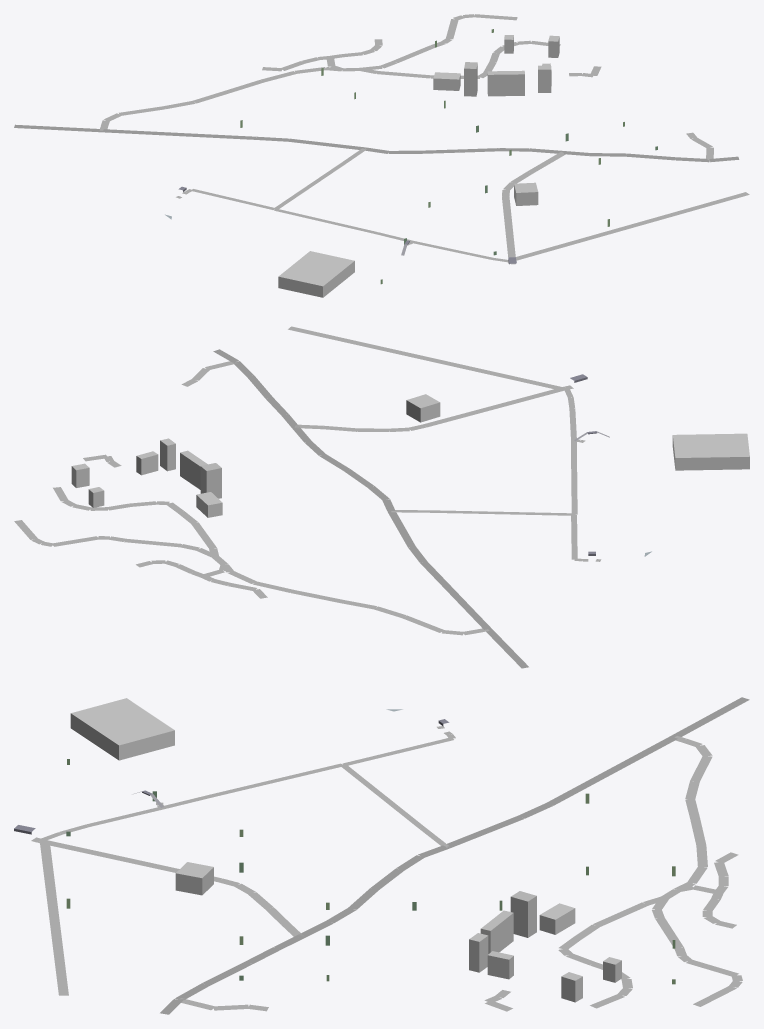
The picture shows the model from 3 angles, top to bottom: view 1: azimuth 30°, elevation 25°; view 2: azimuth 150°, elevation 25°; view 3: azimuth 270°, elevation 25°; orthographic projection. The views are drawn at different scales.
Size of the model in its own units: 536 by 31.97 by 511.
